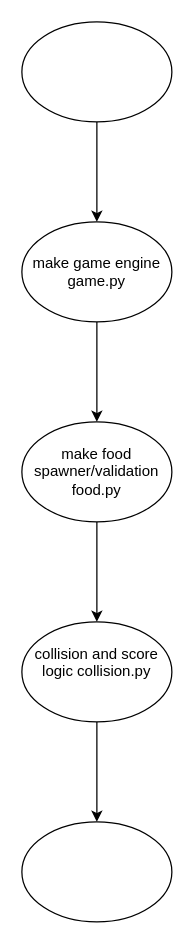
The diagram is 194 pixels wide and 944 high, and some of its shapes have lost their labels. Here are the shapes that lost their labels. From the top down, the centre of each, then its label:
At (x=96, y=71): "main.py intialize window".
At (x=96, y=871): "render the visuals of the gamne".
